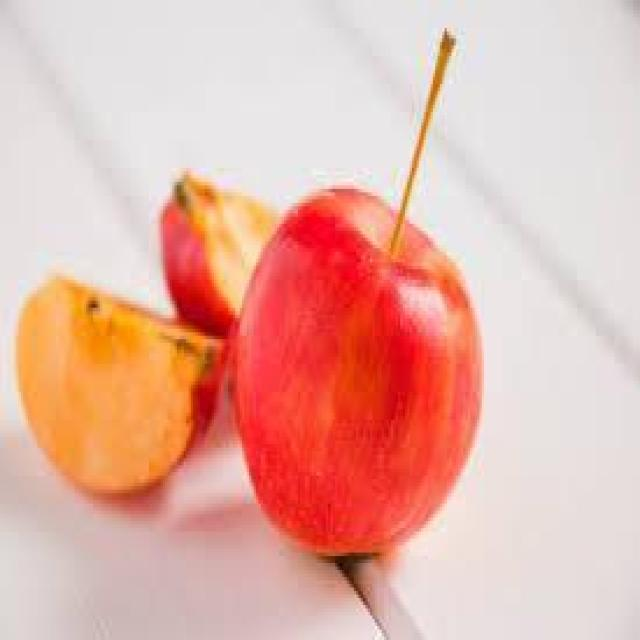maca: (226, 24, 484, 560), (14, 273, 223, 497), (156, 164, 279, 336)
